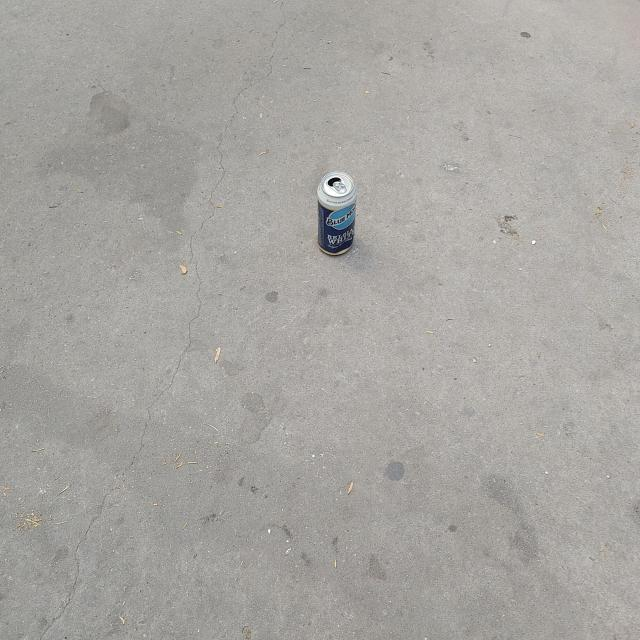can: (317, 171, 357, 255)
